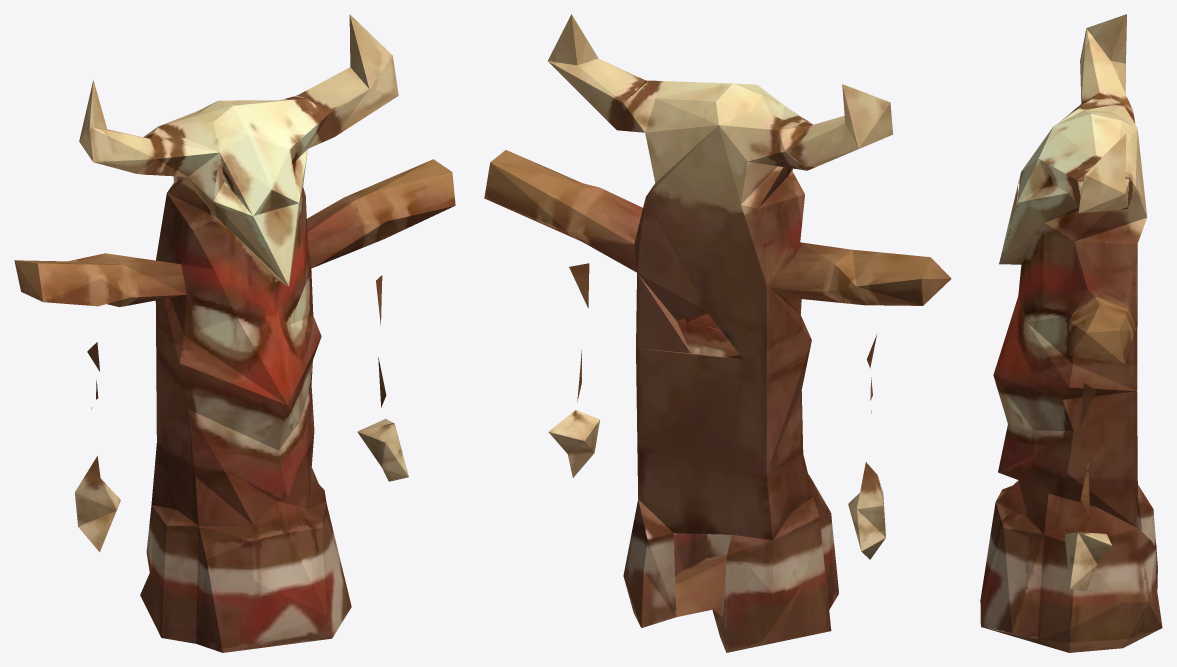
File: goblin-totem.glb
3 renders of one model, left to right at view 1: azimuth 30°, elevation 25°; view 2: azimuth 150°, elevation 25°; view 3: azimuth 270°, elevation 25°, orthographic. The views are drawn at different scales.
Visible parts, largest first — view 1: goblin-totem; view 2: goblin-totem; view 3: goblin-totem.
Part boxes in pixels (bbox=[...]): goblin-totem: bbox=[14, 14, 455, 652]; goblin-totem: bbox=[484, 14, 951, 652]; goblin-totem: bbox=[980, 14, 1162, 652].
Bounding box in the file's own units: 2.4 × 3.05 × 0.9277.
Materials: 1 (1 with a texture image).
